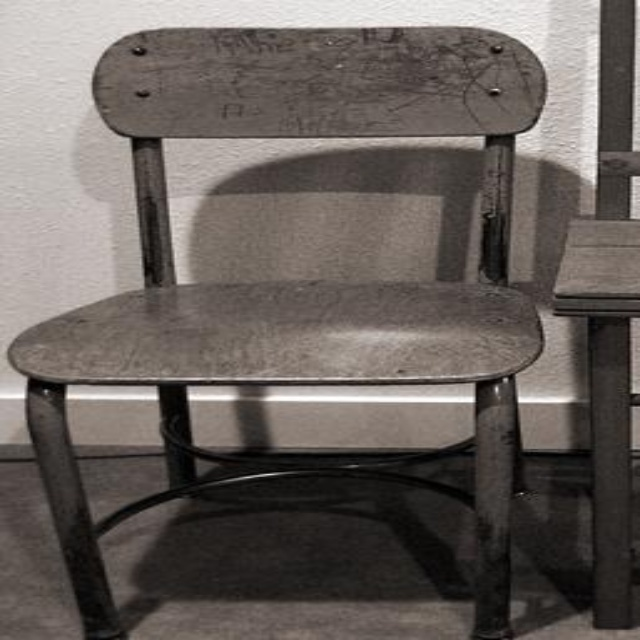obstacle: (10, 26, 543, 639)
